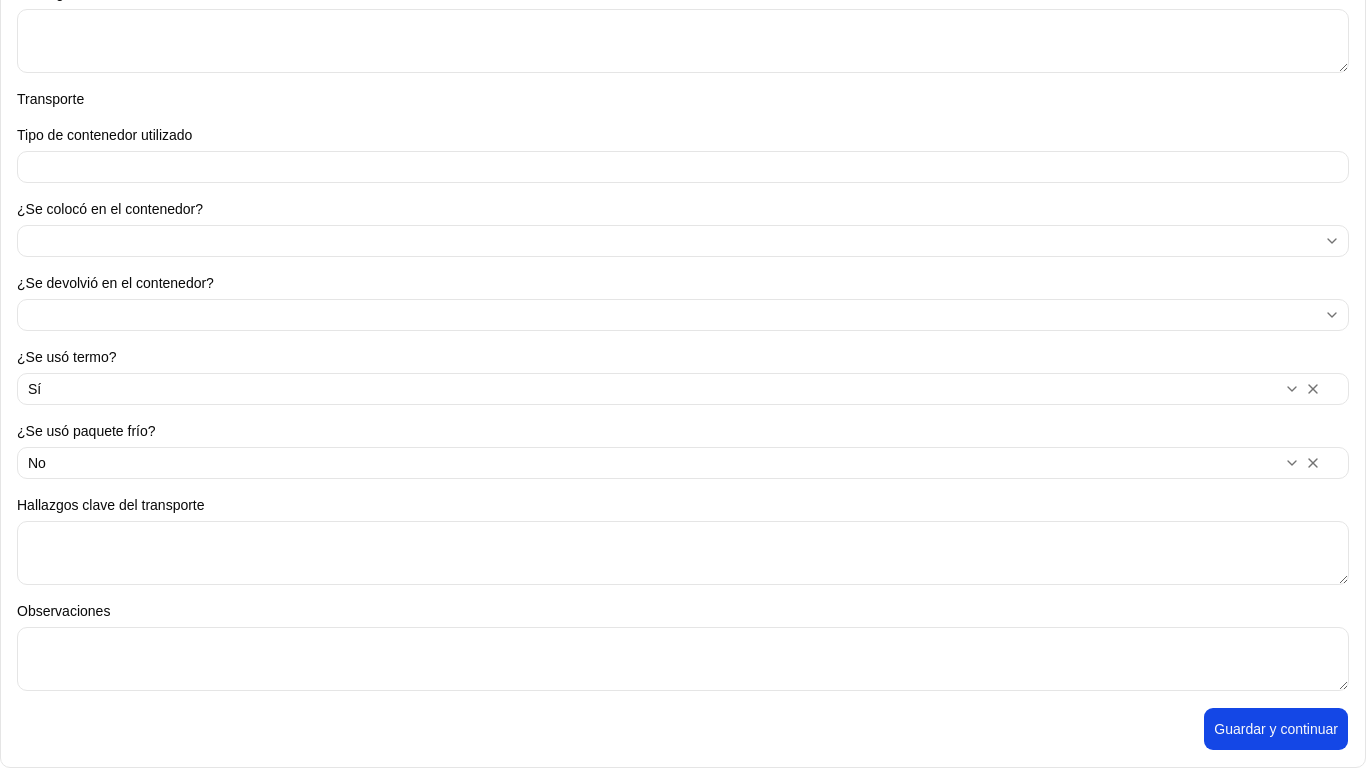
it: ColdChainSection — guardado (SPEC FE13d §4 paso 9) › marcar el paquete frío pone el termo en NO sin ninguna petición
(page scrolled)
Step 1. Click the dropdown named "¿Se usó paquete frío?" → (37,463), box [17,447,1349,479]
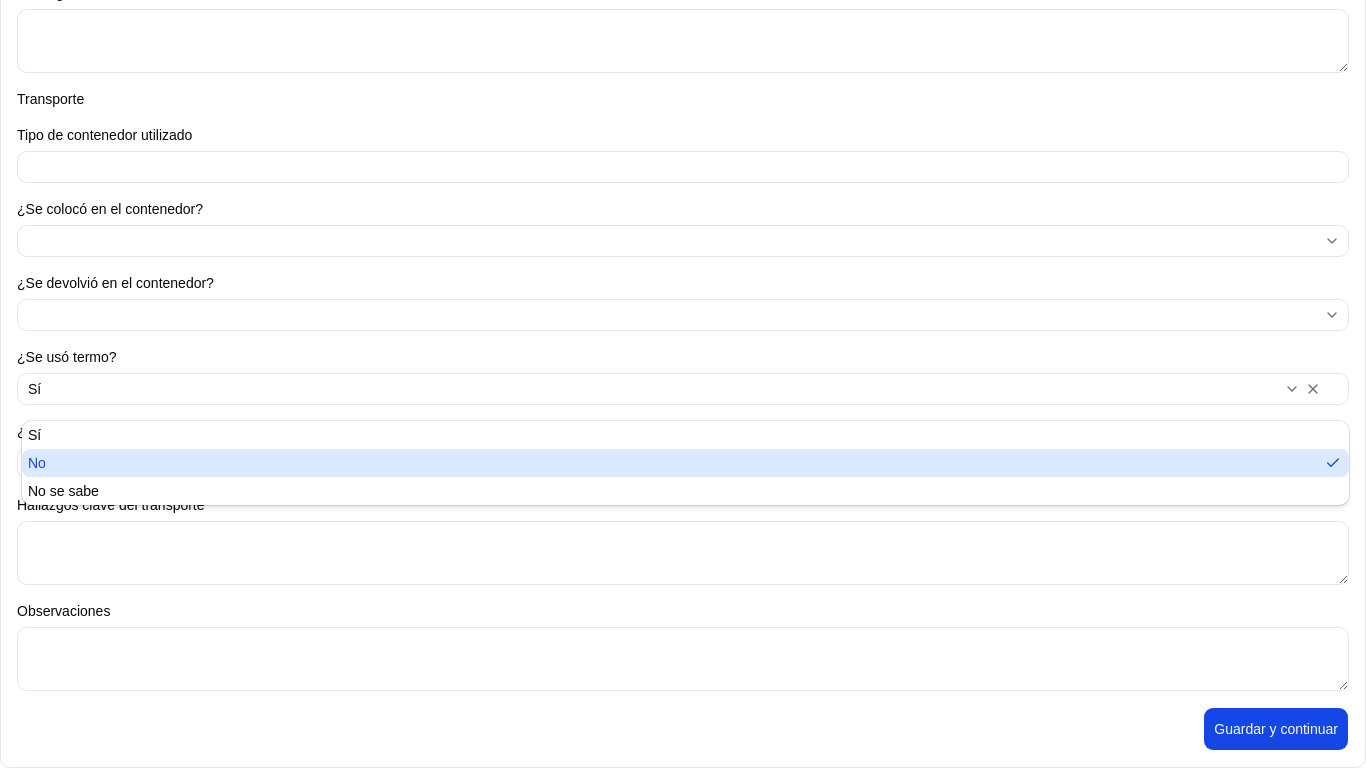
Step 2. Click the option "Sí" → (35,435), box [28,427,41,443]
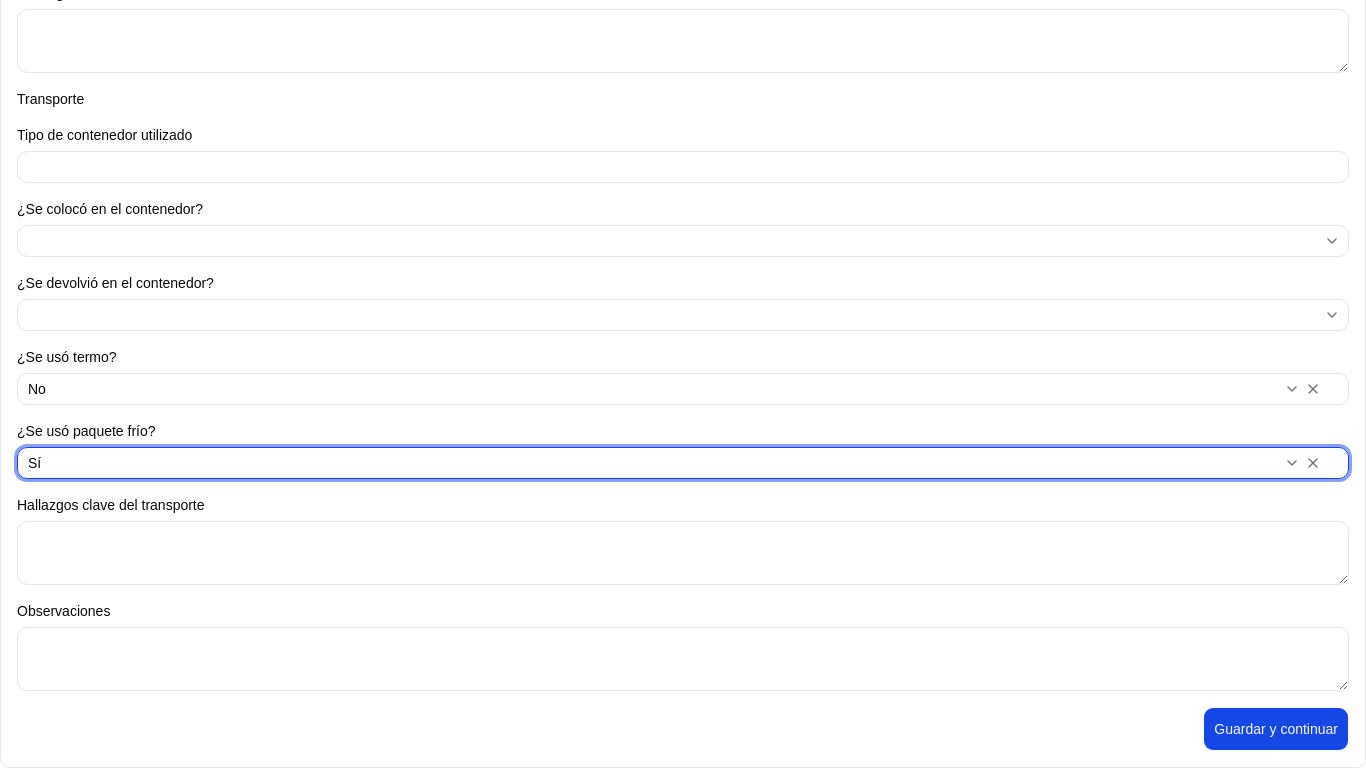
Expected: the dropdown named "¿Se usó termo?" reads "No", [17,373,1349,405]
